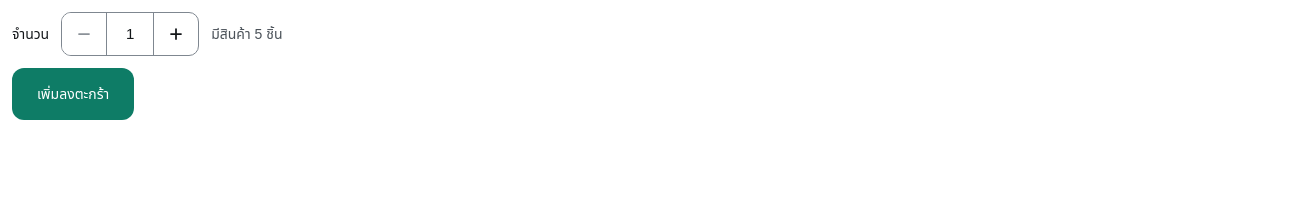
Scenario: AddToCart › maps NETWORK_ERROR to Thai copy and keeps the form usable
This screenshot has width=1292, height=212.
Click the button "เพิ่มลงตะกร้า" at (73, 94), box [12,68,134,120]
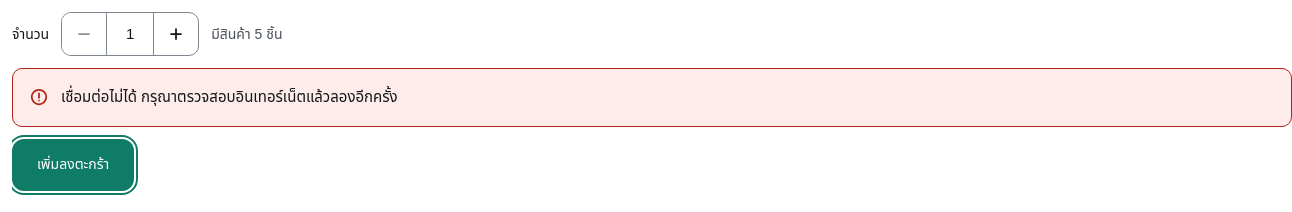
Expected: the button "เพิ่มลงตะกร้า" is enabled, [12,139,134,191]
Now the text "เชื่อมต่อไม่ได้ กรุณาตรวจสอบอินเทอร์เน็ตแล้วลองอีกครั้ง" is shown, box [61,88,398,105]
